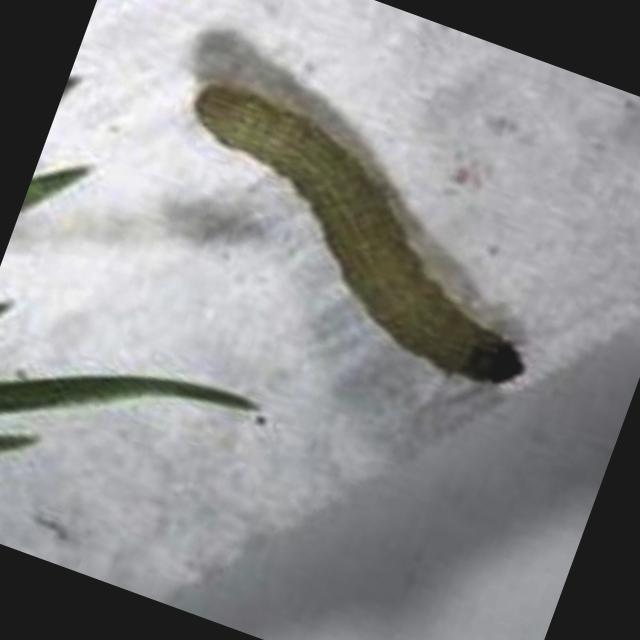Beet armyworm: (113, 34, 618, 453)
